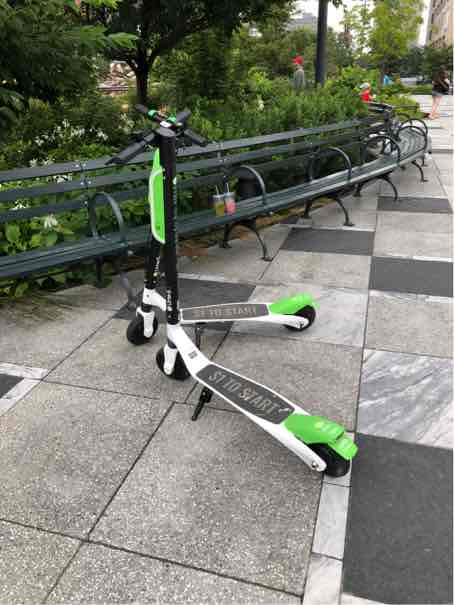scooter: (125, 99, 362, 488), (102, 89, 327, 340)
